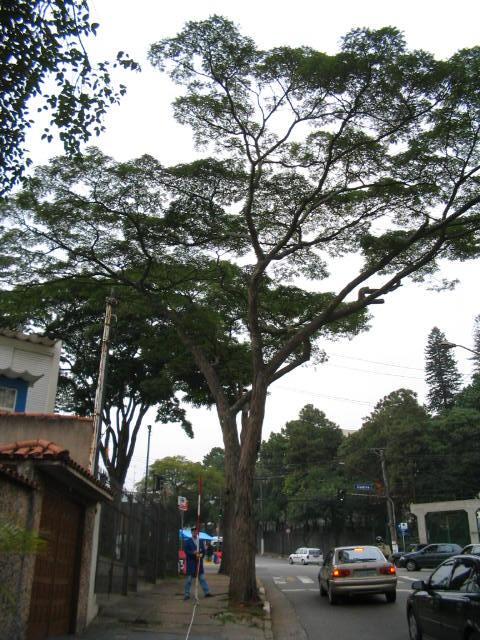crown: (5, 15, 475, 400)
stem: (209, 488, 272, 607)
stick: (185, 464, 210, 605)
tree: (3, 14, 478, 611)
